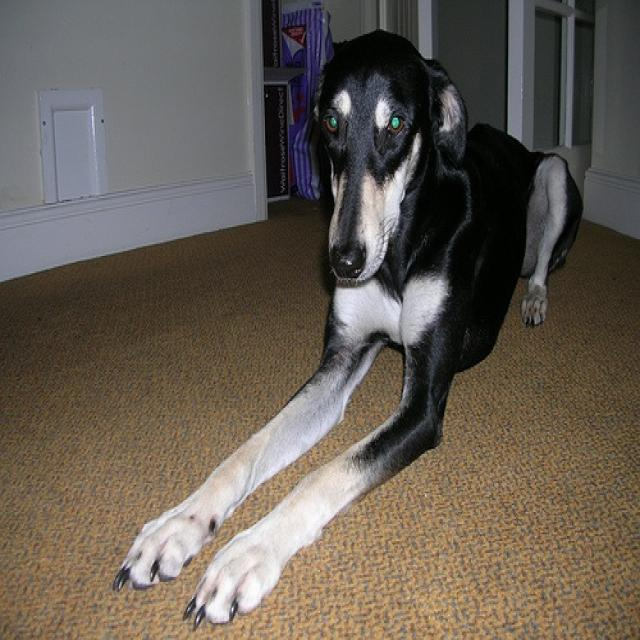dog: (114, 30, 586, 629)
